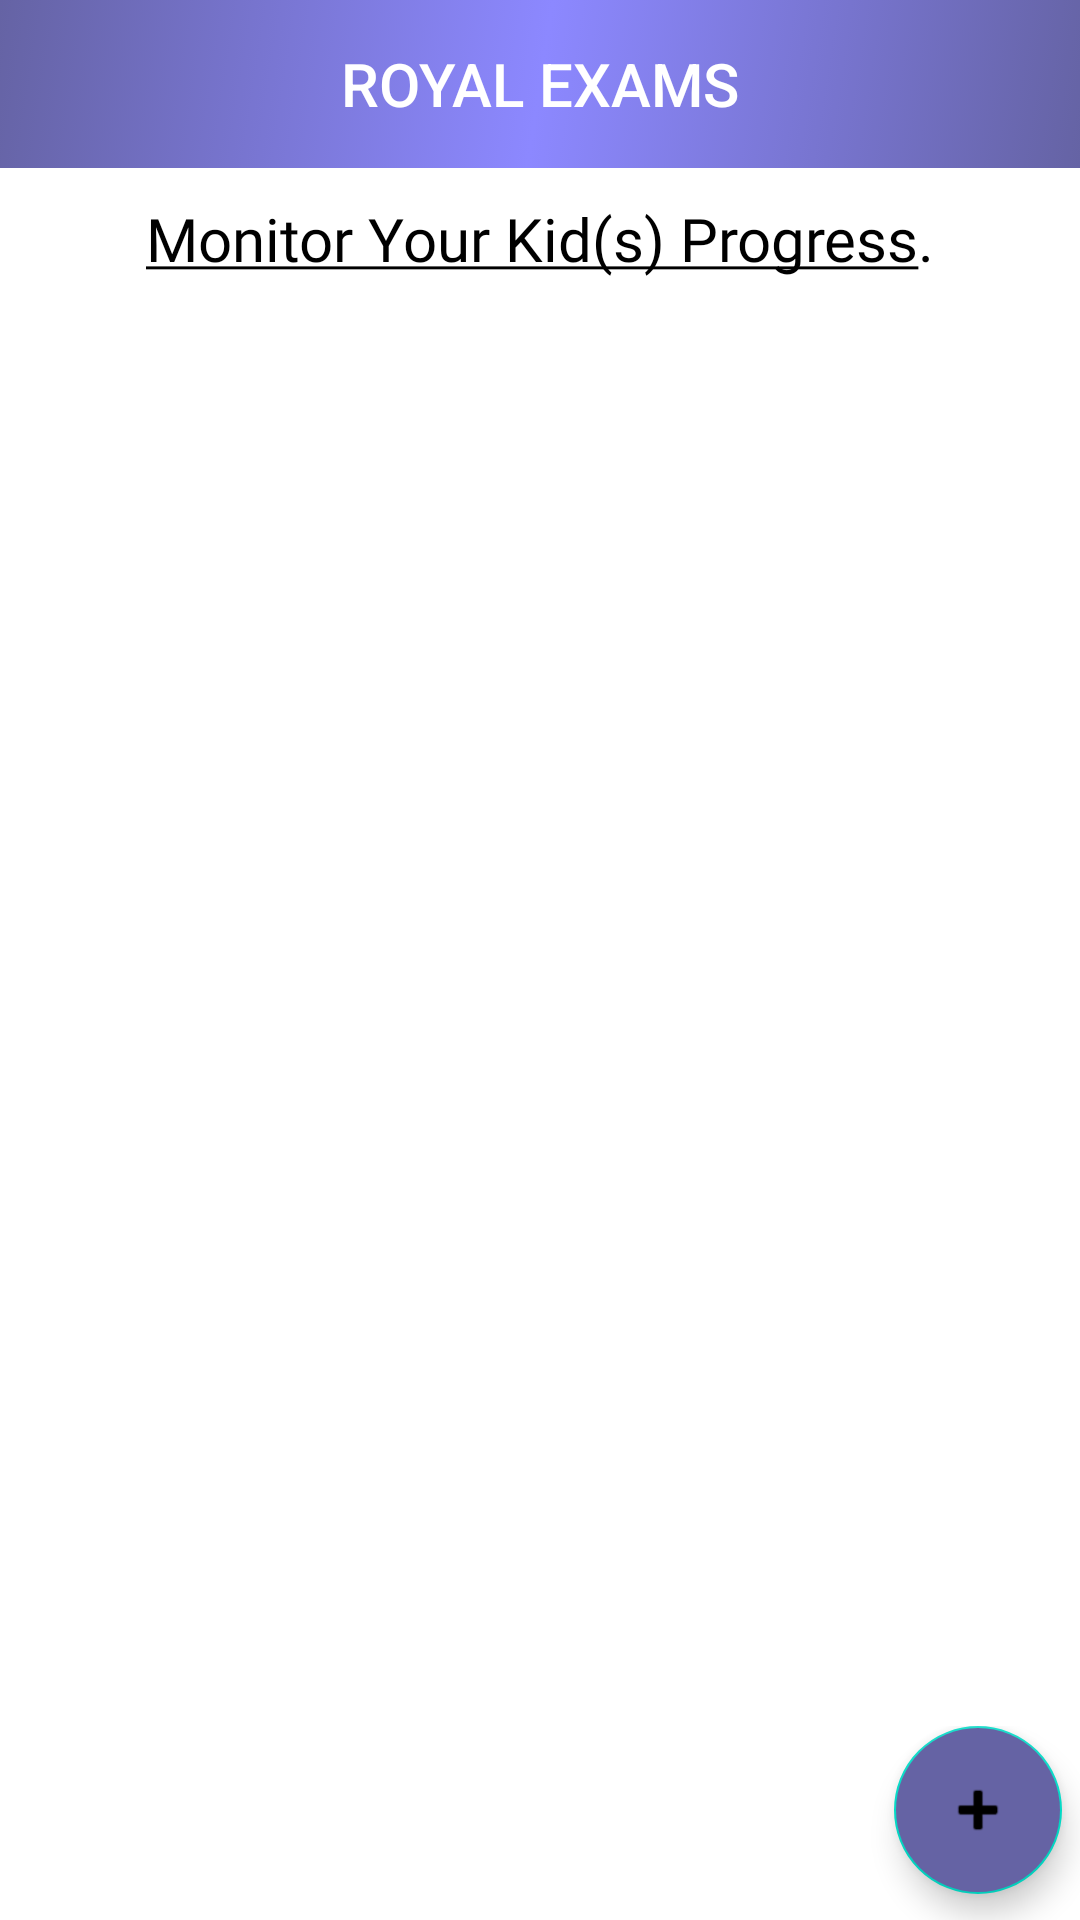

Named icons in this screenshot (1080 x 1920) and their bounding boxes, (x1, y1, x2, y2):
add: (894, 1726, 1062, 1894)
